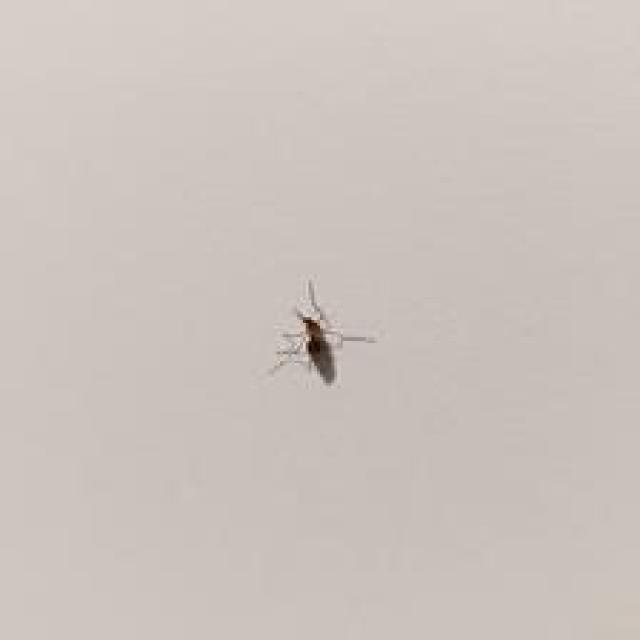Culex: (269, 277, 377, 386)
